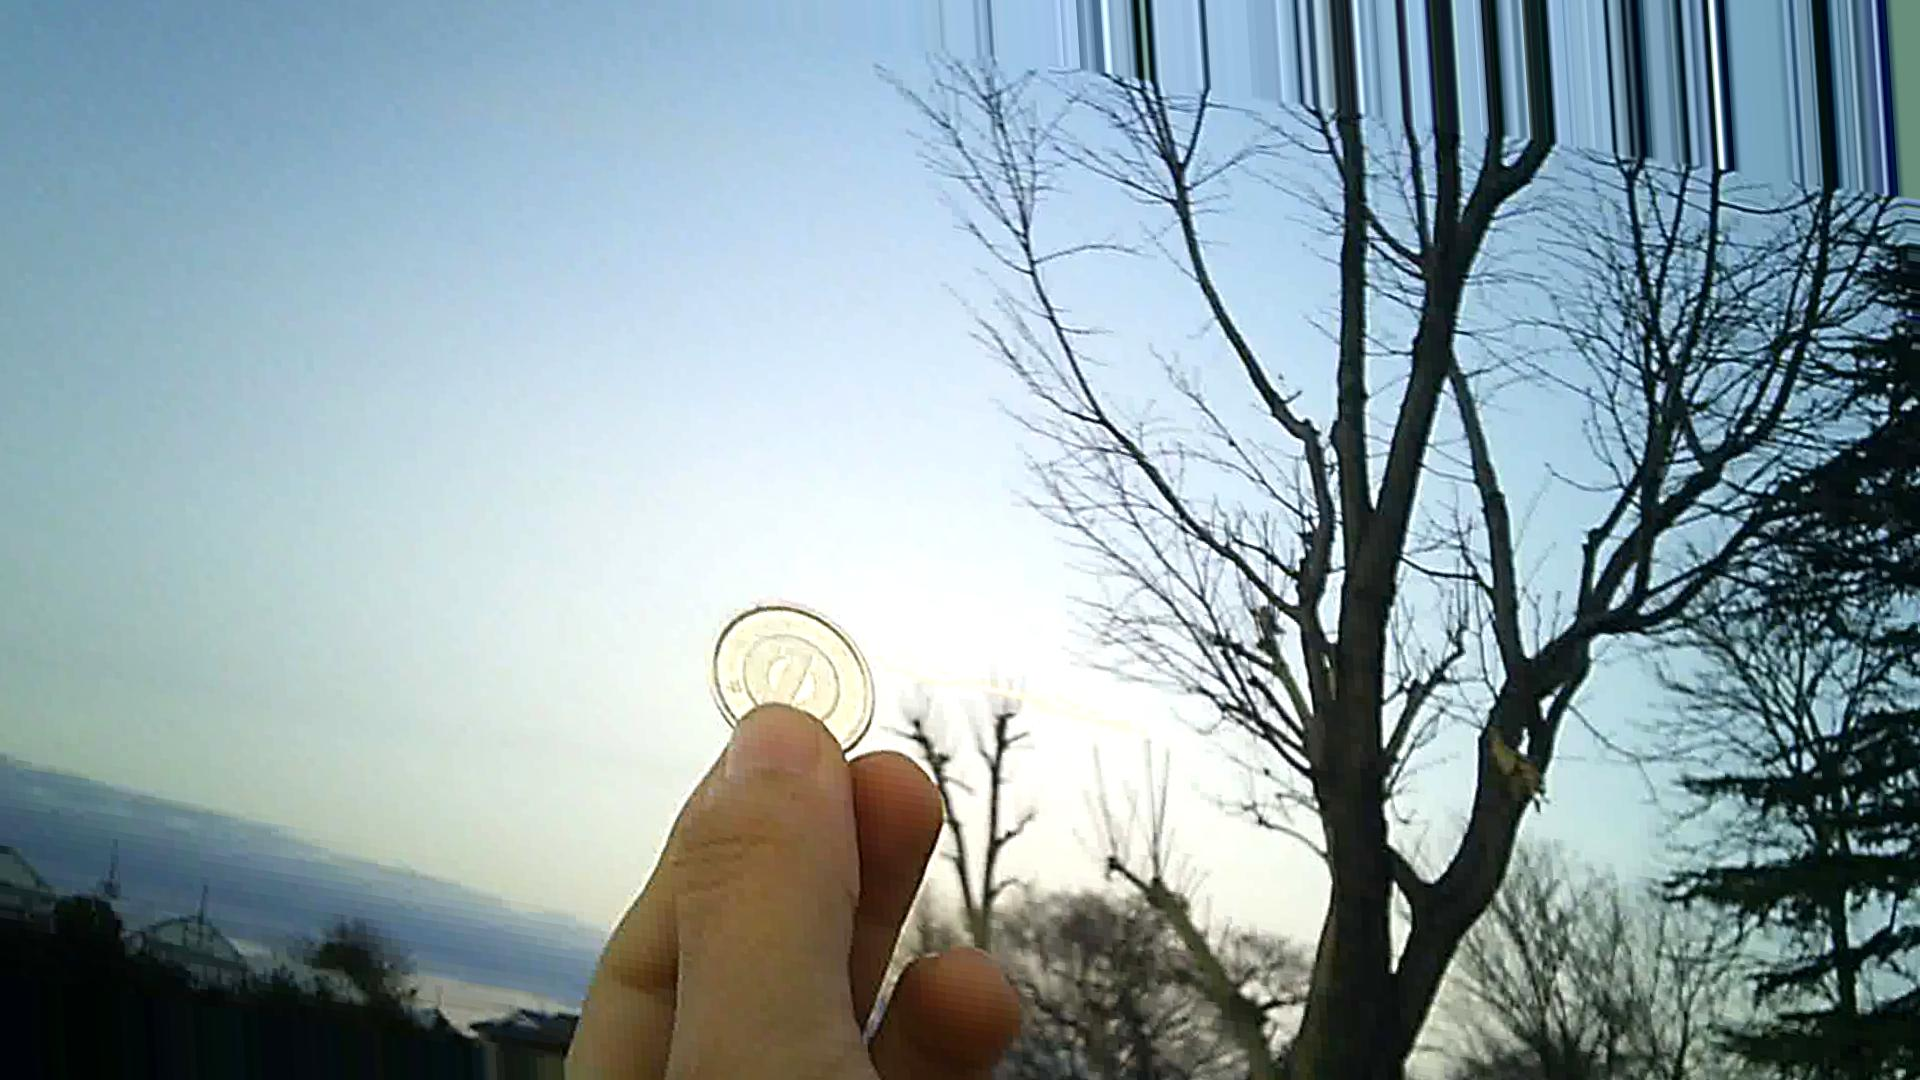1 Yen: (700, 597, 891, 770)
